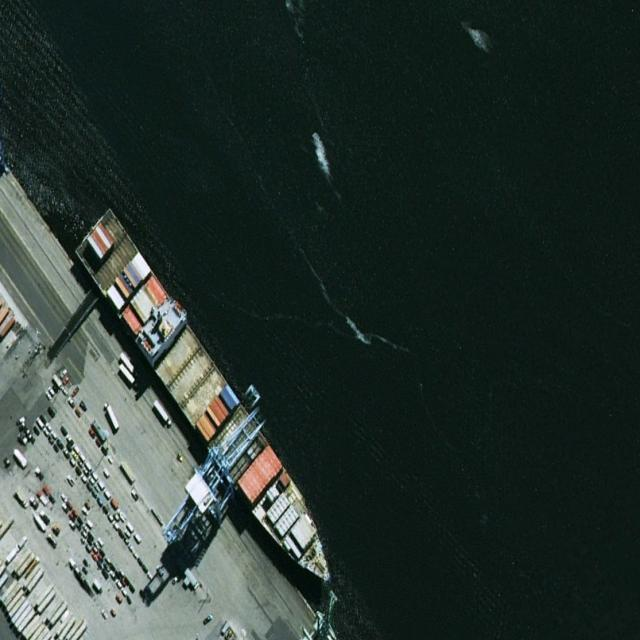Container Ship: (72, 205, 348, 606)
